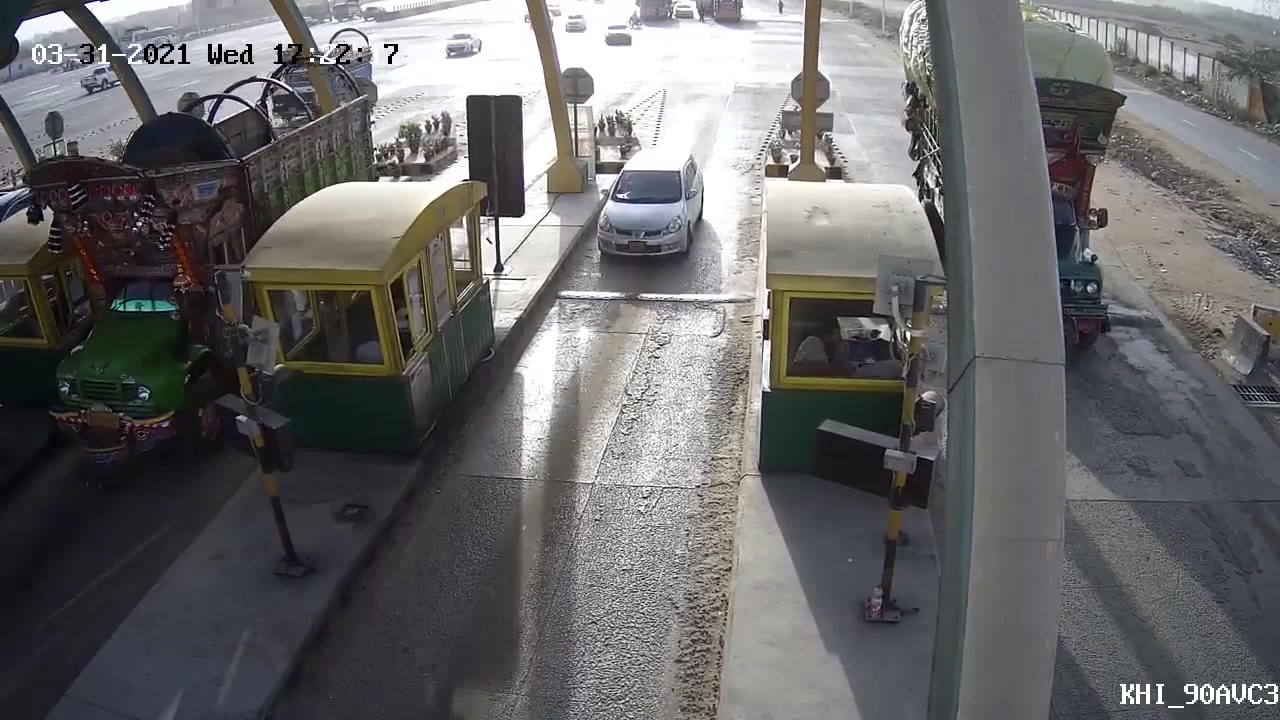F1: (570, 143, 719, 272)
